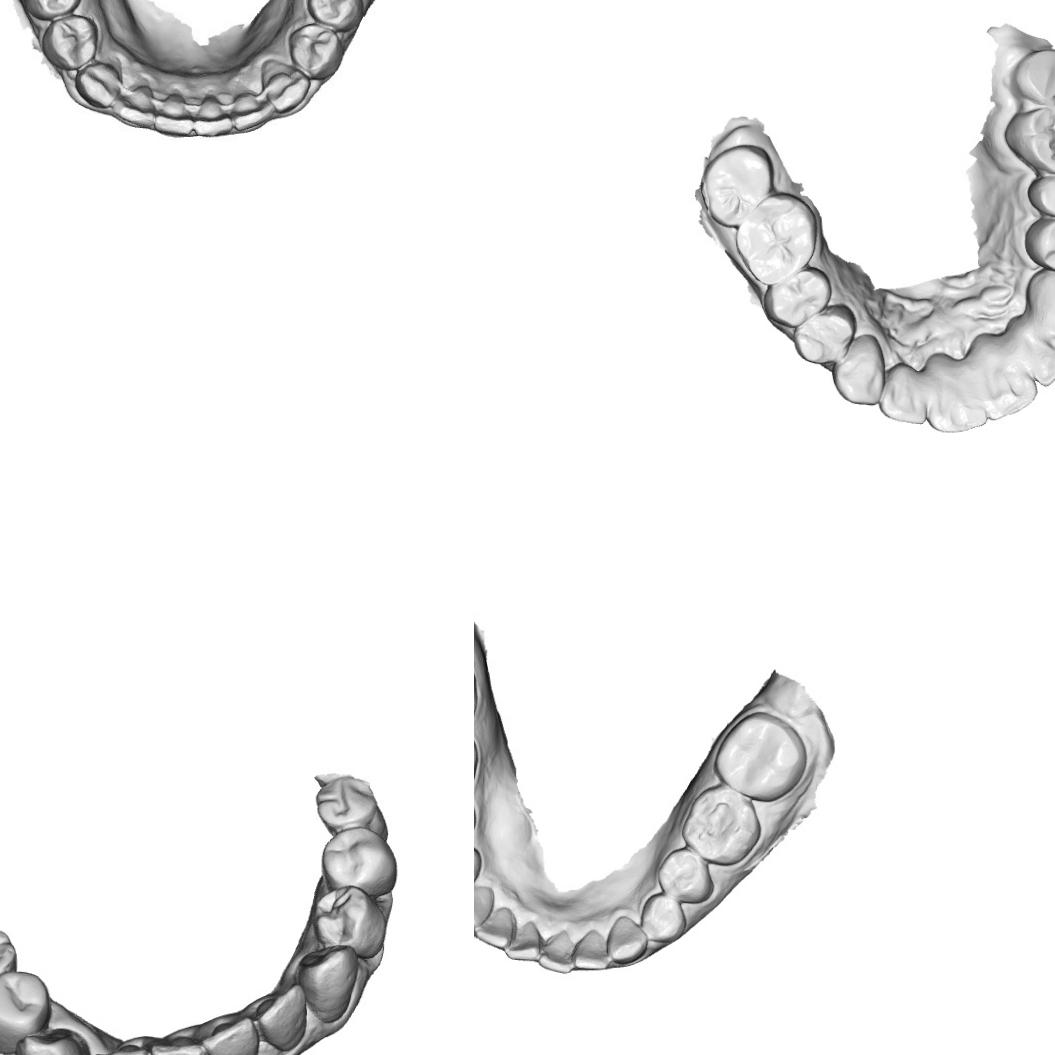canine: (295, 946, 358, 1024), (829, 332, 885, 407), (1023, 269, 1055, 344), (604, 914, 650, 966), (15, 1026, 92, 1055), (77, 58, 122, 102), (266, 60, 306, 109), (474, 883, 496, 931)
incisor: (969, 332, 1039, 422), (922, 350, 991, 434), (254, 985, 311, 1055), (879, 360, 935, 426), (1009, 325, 1055, 387), (202, 1014, 261, 1055), (115, 81, 160, 130), (570, 926, 613, 972), (474, 905, 515, 951), (194, 88, 232, 136), (538, 928, 576, 976), (232, 86, 268, 134), (154, 90, 194, 132), (504, 920, 542, 962), (149, 1034, 209, 1055)
molar: (712, 708, 808, 802), (732, 190, 820, 287), (680, 782, 763, 867), (697, 142, 776, 231), (312, 773, 379, 830), (1001, 106, 1055, 175), (1009, 46, 1055, 112)
premolar: (313, 884, 386, 956), (320, 826, 396, 895), (760, 264, 834, 330), (0, 969, 53, 1054), (790, 302, 858, 366), (38, 11, 100, 71), (656, 846, 714, 904), (637, 892, 687, 944), (294, 25, 344, 72), (1021, 214, 1055, 277), (1024, 170, 1055, 221), (304, 0, 356, 29), (0, 929, 19, 993), (26, 0, 84, 18)
